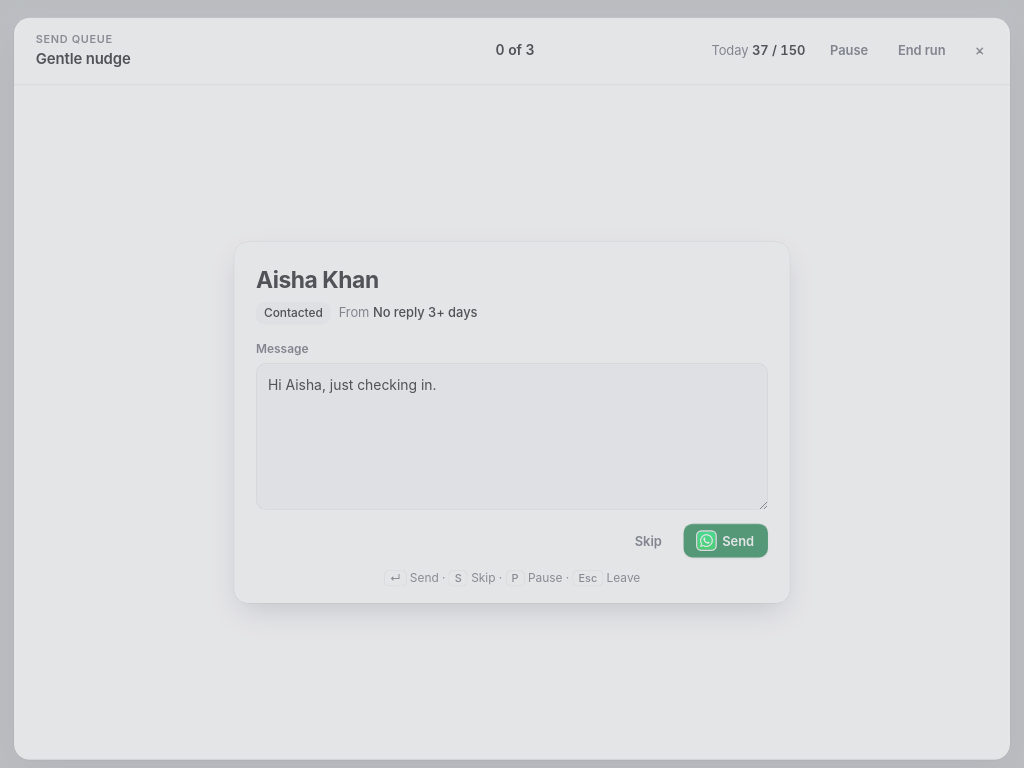
it: QueueRun (4C Task 4) › the daily cap pauses the run, in LUME's words
Expected: the text box showing "Hi Aisha, just checking in." is shown, [256, 363, 768, 510]
What coordinates should you click on to do the following:
click the button "Send"
I would click on:
 (726, 541)
Its box is [684, 524, 768, 558].
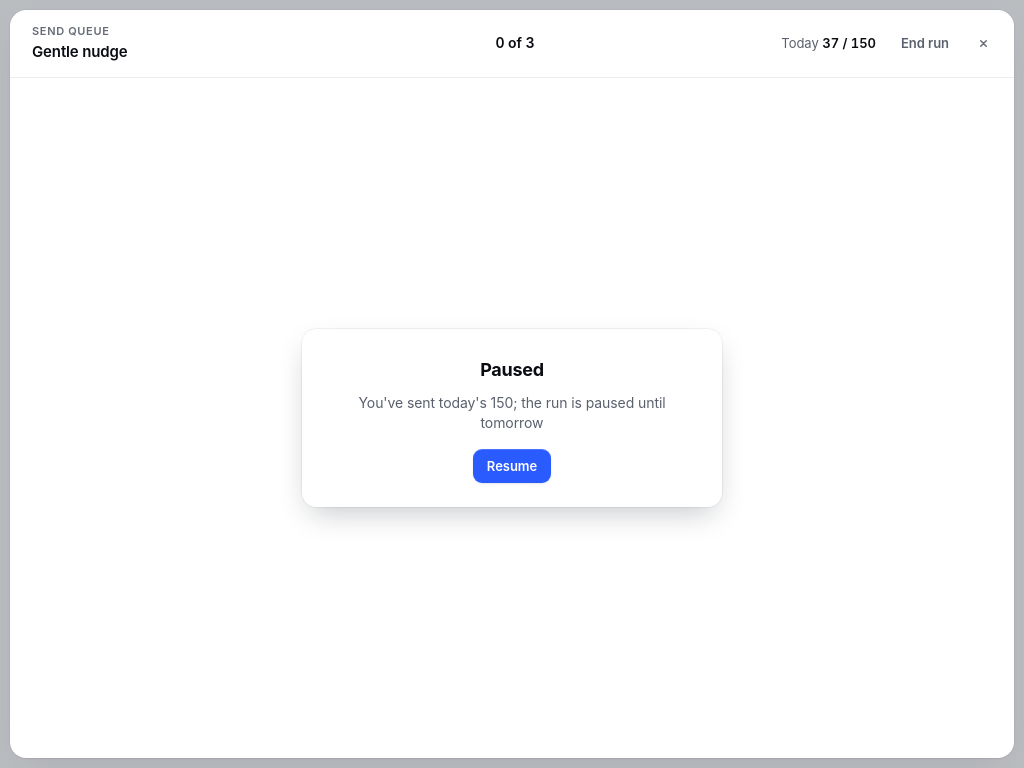
Expected: the text "You've sent today's 150; the run is paused until tomorrow" is shown, [358, 394, 666, 431]
Expected: the button "Resume" is shown, [473, 449, 551, 483]
